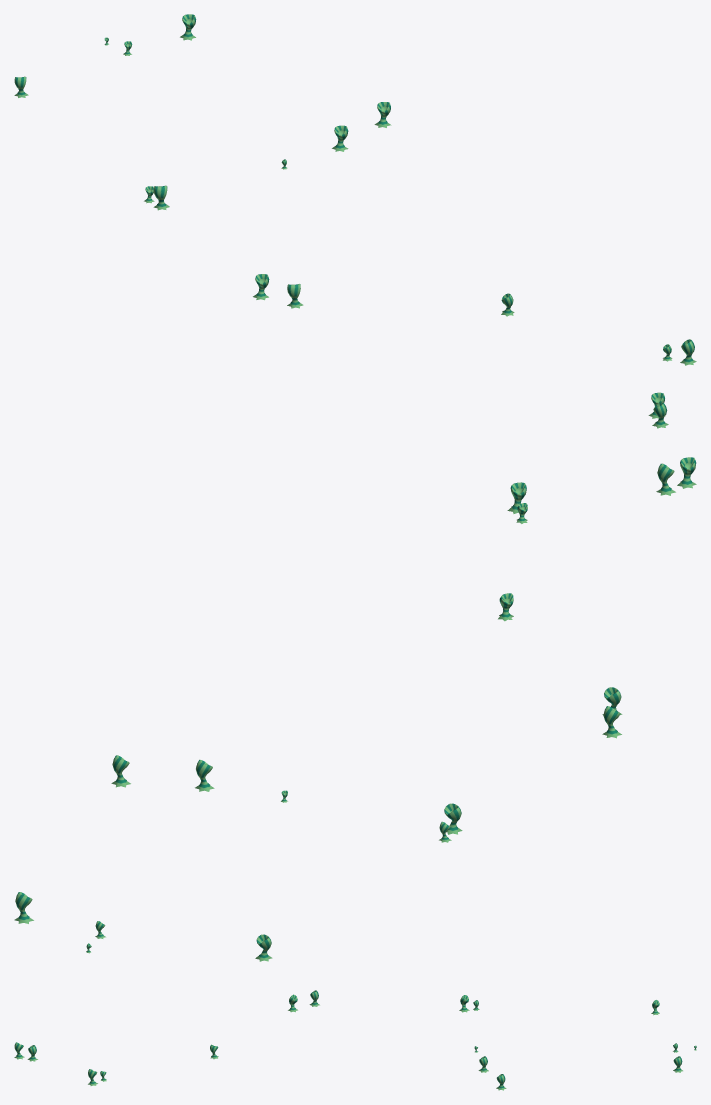
Rendered from plantE.fbx.
The picture shows the model from 3 angles, top to bottom: view 1: azimuth 30°, elevation 25°; view 2: azimuth 150°, elevation 25°; view 3: azimuth 270°, elevation 25°; orthographic projection. The views are drawn at different scales.
Parts seen in each view (by area): view 1: plantE; view 2: plantE; view 3: plantE.
Part boxes in pixels (bbox=[...]): plantE: bbox=[14, 14, 696, 428]; plantE: bbox=[14, 457, 696, 961]; plantE: bbox=[14, 990, 696, 1090].
Size of the model in its own units: 1196 by 91.48 by 3932.
